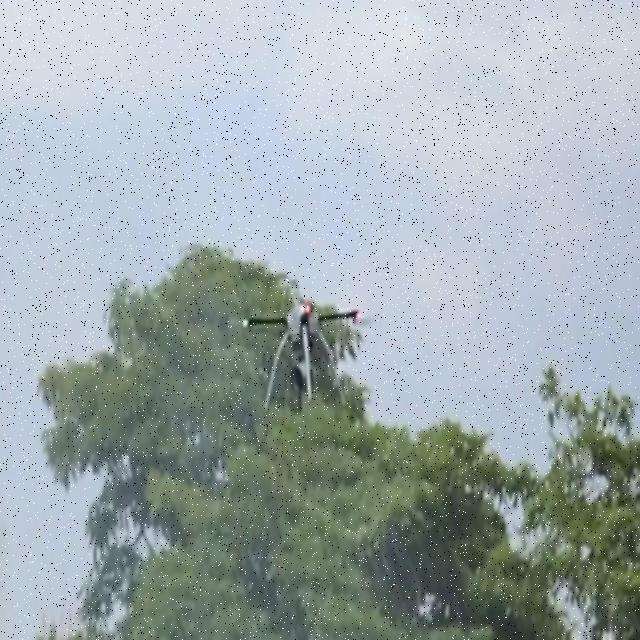UAV: (243, 298, 375, 410)
